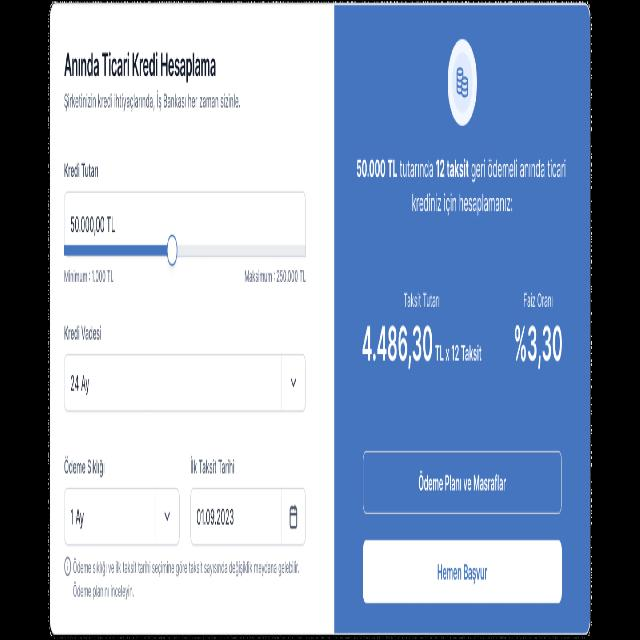QLabel: (61, 48, 217, 81), (73, 557, 301, 577), (61, 89, 242, 114), (361, 321, 434, 369), (411, 190, 514, 217), (512, 320, 564, 373), (472, 156, 568, 183), (416, 470, 507, 493), (435, 558, 489, 587), (188, 454, 238, 480), (72, 581, 138, 600), (63, 454, 109, 478), (435, 341, 483, 363), (356, 157, 397, 180), (62, 322, 104, 344), (435, 154, 470, 179), (61, 159, 101, 179), (402, 289, 441, 309), (399, 158, 434, 180), (522, 290, 552, 310)
VBtn: (362, 539, 563, 606), (362, 450, 561, 515)
VCard: (49, 4, 590, 637)
VCombobox: (64, 351, 306, 414), (64, 484, 180, 548)
VIcon: (447, 38, 476, 128), (63, 555, 72, 579)
VInlineDatepicker: (190, 486, 306, 546)
